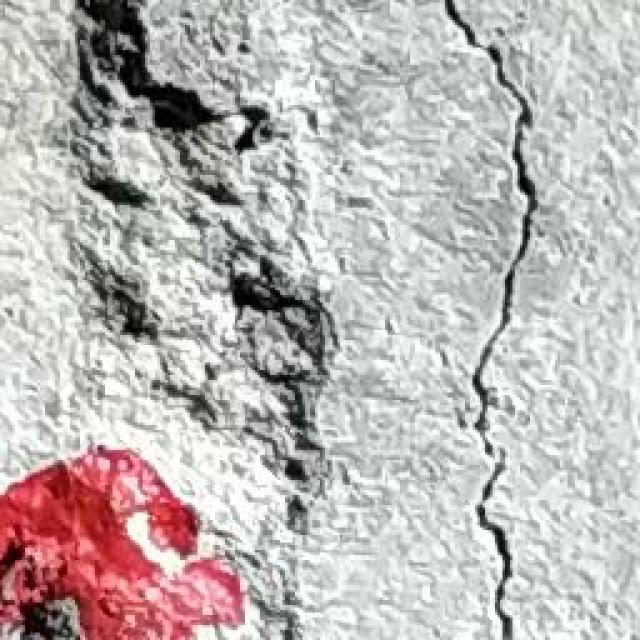Longitudinal: (433, 9, 540, 640)
Rippled: (4, 0, 356, 640)
